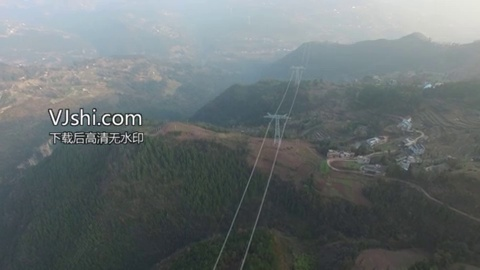tower_body: (260, 109, 293, 148)
tower_foot: (271, 132, 282, 145)
tower_head: (263, 112, 290, 121)
